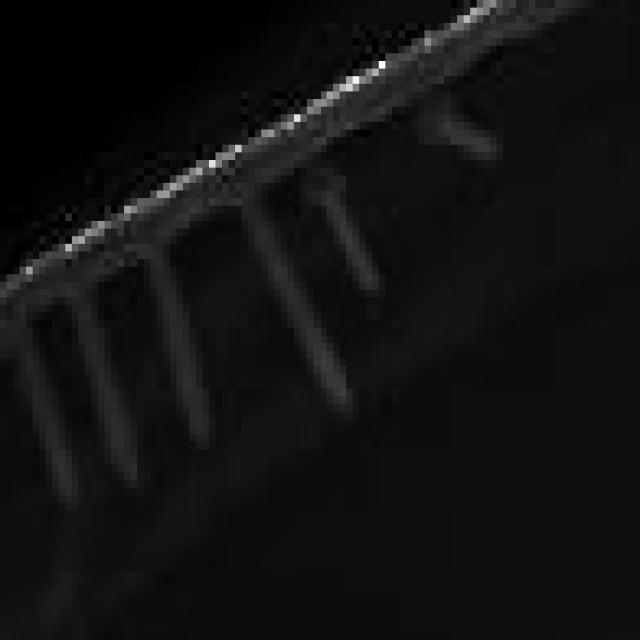fracture: (2, 5, 639, 640)
